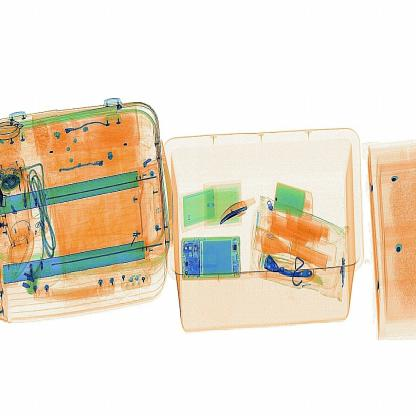pliers: (213, 190, 261, 226)
